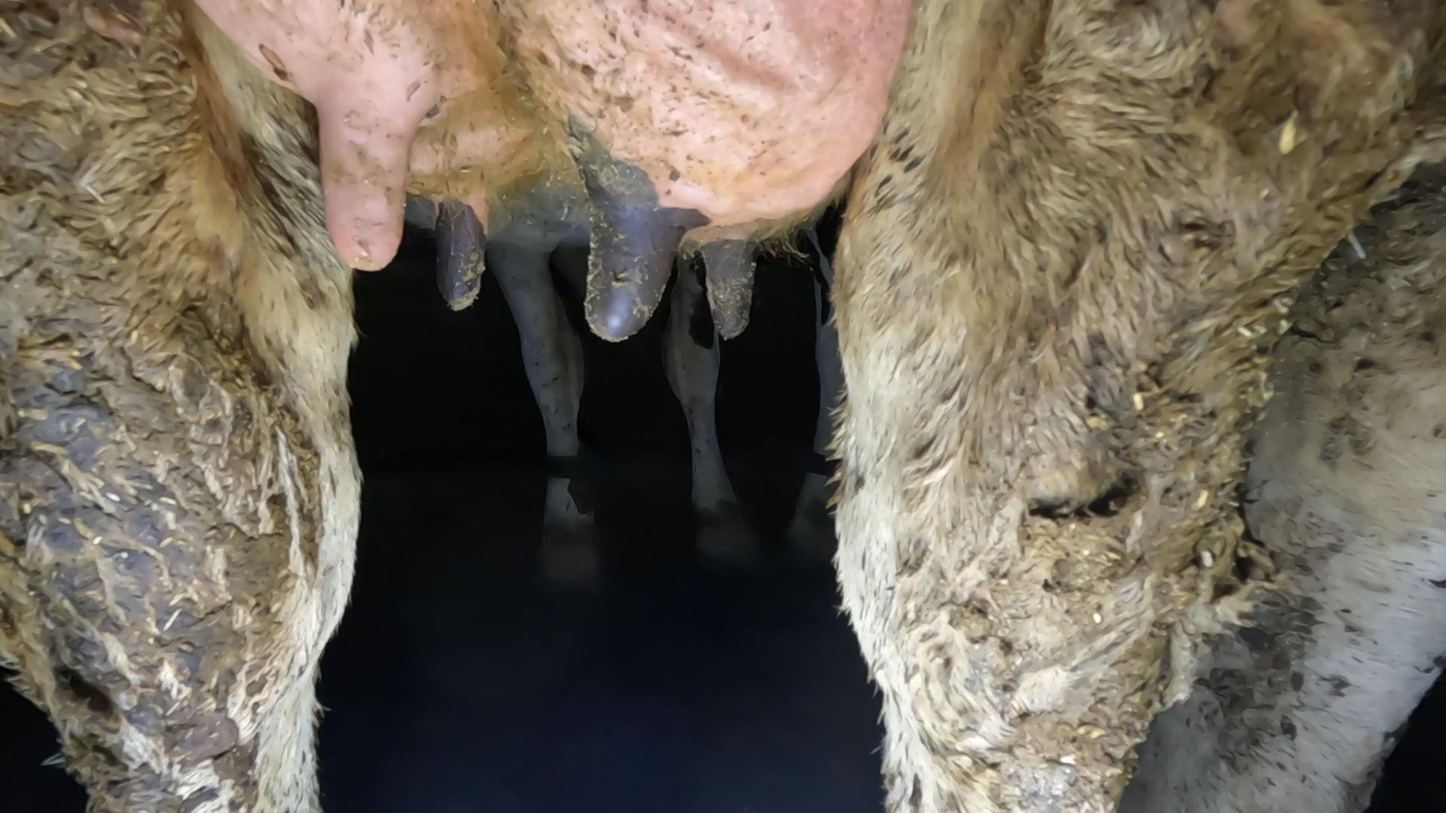Zitze: (297, 76, 416, 287), (576, 147, 672, 358), (422, 171, 511, 315), (692, 212, 765, 348)
